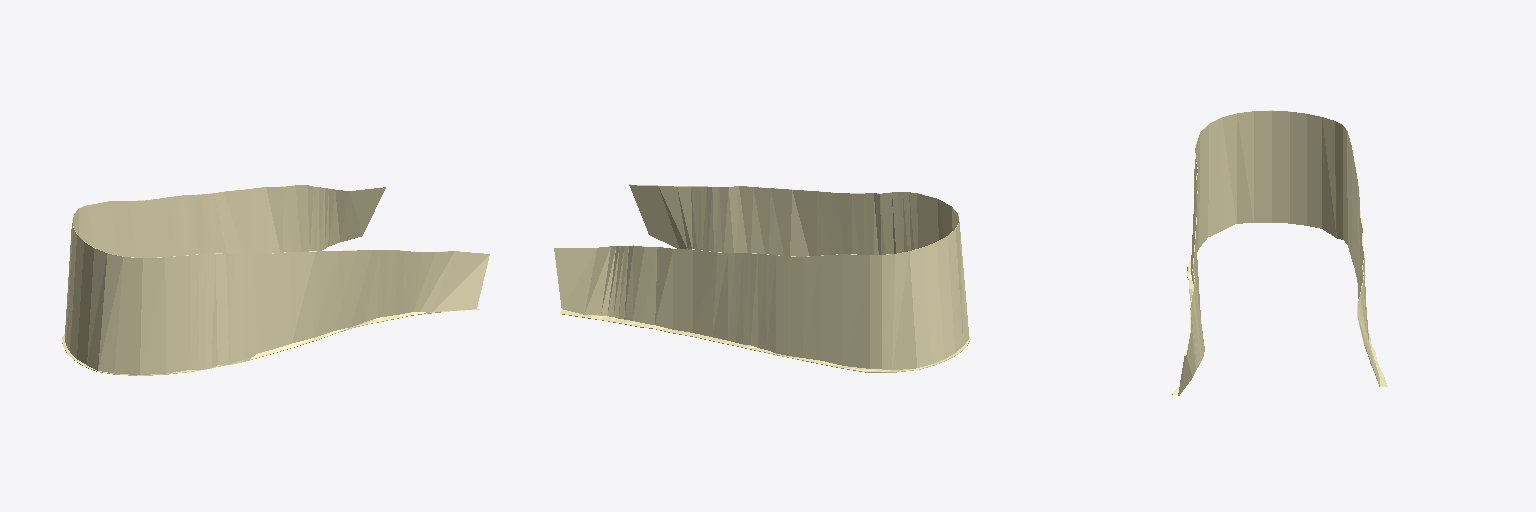
3 views of the same model, side by side, from view 1: azimuth 30°, elevation 25°; view 2: azimuth 150°, elevation 25°; view 3: azimuth 270°, elevation 25° (orthographic).
Parts seen in each view (by area): view 1: BezierCurveC_CUBezierCurve.004; view 2: BezierCurveC_CUBezierCurve.004; view 3: BezierCurveC_CUBezierCurve.004.
Boxes of the visible parts, x1,y1,x2,y2 form: BezierCurveC_CUBezierCurve.004: [62, 185, 489, 375]; BezierCurveC_CUBezierCurve.004: [554, 184, 970, 372]; BezierCurveC_CUBezierCurve.004: [1172, 110, 1387, 395].
Bounding box in the file's own units: 16.49 × 5.06 × 8.28.
1 materials, 1 textured.